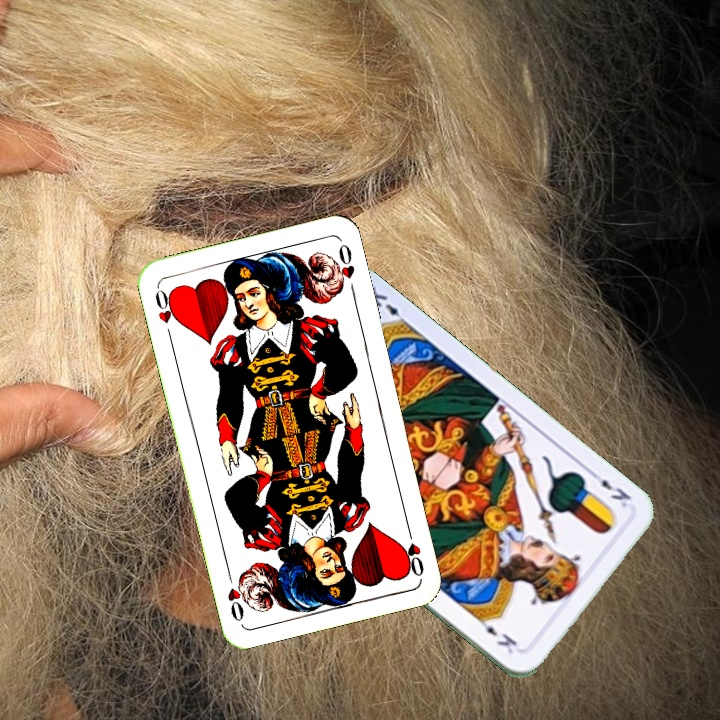EK: (587, 468, 634, 510)
HO: (151, 284, 181, 342), (400, 521, 427, 579)
